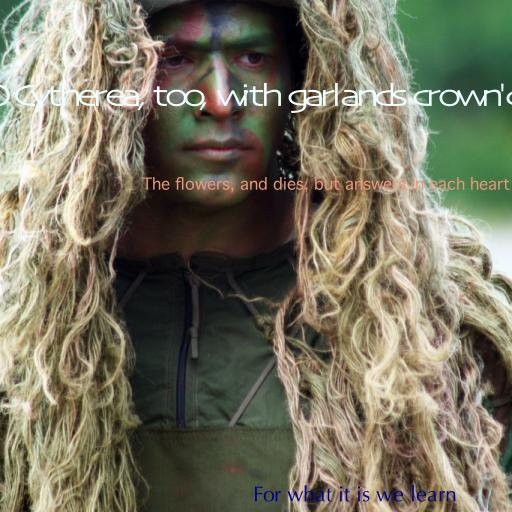Geneva: (142, 177, 510, 193)
Optima: (253, 485, 457, 502)
Skia: (0, 82, 512, 113)
